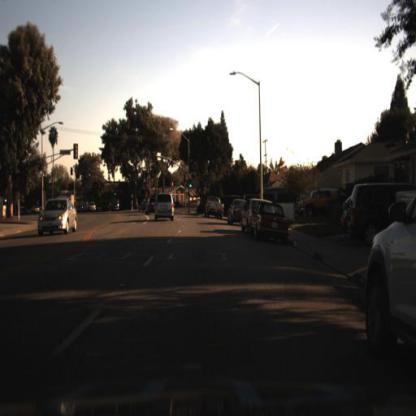car: (368, 196, 416, 381), (350, 182, 413, 236), (293, 176, 344, 234), (250, 198, 293, 255), (294, 187, 347, 223), (39, 196, 79, 238), (251, 202, 289, 243), (202, 189, 226, 223), (237, 197, 255, 241), (153, 193, 176, 224), (240, 199, 256, 235), (145, 193, 161, 224), (133, 192, 149, 219), (227, 198, 242, 226), (145, 195, 160, 216), (83, 200, 99, 216)
trafficLight-Green: (187, 178, 195, 194), (87, 168, 95, 183), (114, 185, 119, 201), (189, 182, 194, 194)
trafficLight-Red: (68, 161, 76, 182)
